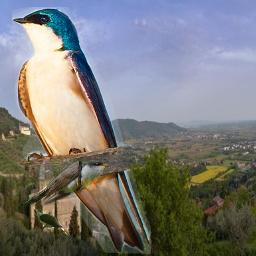Cuckoo: (16, 158, 109, 207), (34, 209, 69, 236)
Swallow: (12, 7, 151, 254)
